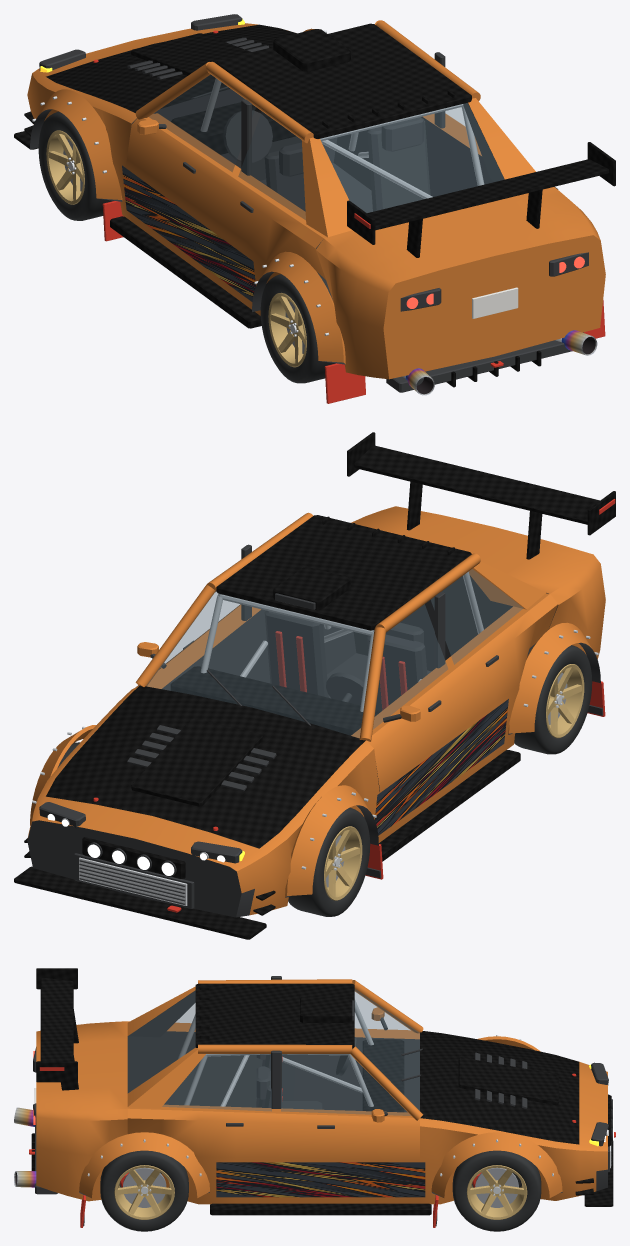
Rendered from tokyo.glb.
3 renders of one model, top to bottom at view 1: azimuth 30°, elevation 25°; view 2: azimuth 150°, elevation 25°; view 3: azimuth 270°, elevation 25°, orthographic. The views are drawn at different scales.
Visible parts, largest first — view 1: body, Tokyo_ExteriorCabin, wheel_RL, wheel_FL; view 2: body, Tokyo_ExteriorCabin, wheel_FL, wheel_RL; view 3: body, wheel_FR, wheel_RR, Tokyo_ExteriorCabin.
Part boxes in pixels (x1,y1,x2,y2): body: [14, 14, 615, 403]; Tokyo_ExteriorCabin: [171, 78, 484, 212]; wheel_RL: [260, 272, 335, 383]; wheel_FL: [38, 111, 113, 220]; body: [14, 432, 615, 939]; Tokyo_ExteriorCabin: [170, 572, 483, 735]; wheel_FL: [288, 807, 370, 916]; wheel_RL: [514, 643, 592, 754]; body: [14, 968, 615, 1227]; wheel_FR: [452, 1150, 541, 1231]; wheel_RR: [100, 1150, 188, 1231]; Tokyo_ExteriorCabin: [178, 999, 404, 1112].
Bounding box in the file's own units: 1.98 × 1.46 × 4.61.
18 materials, 3 textured.
